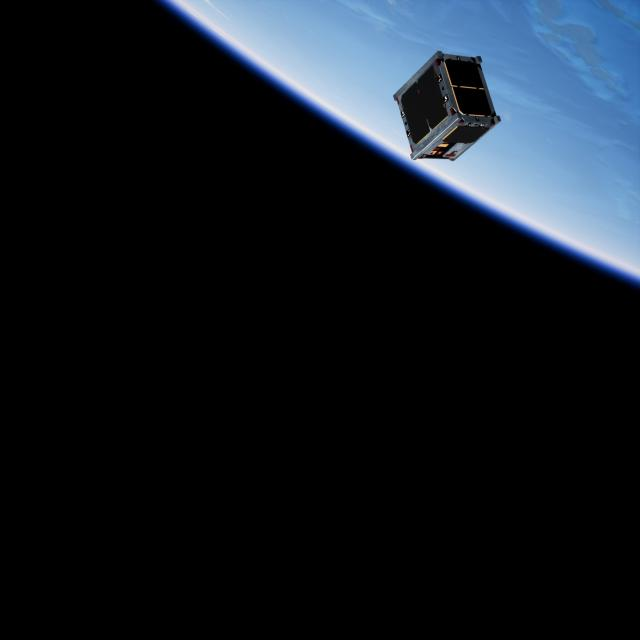medium_debris: (392, 50, 505, 169)
